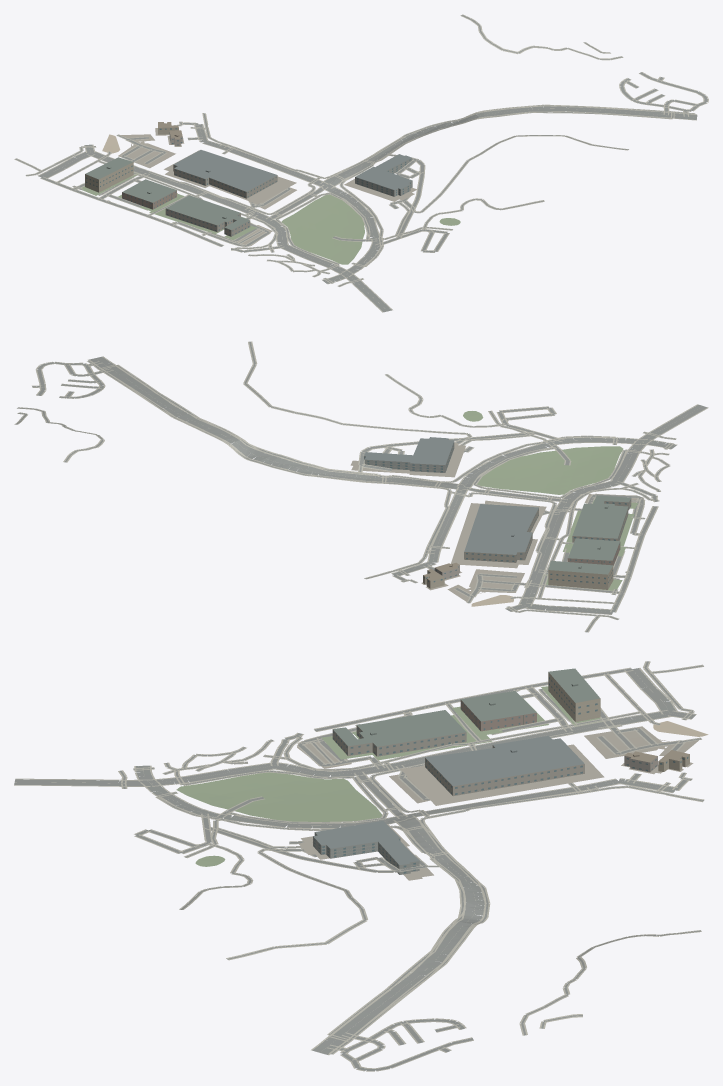
3 renders of one model, top to bottom at view 1: azimuth 30°, elevation 25°; view 2: azimuth 150°, elevation 25°; view 3: azimuth 270°, elevation 25°, orthographic. The views are drawn at different scales.
Parts seen in each view (by area): view 1: context-osm-roads, context-osm-sidewalks, context-osm-buildings, context-building-plinths; view 2: context-osm-roads, context-osm-sidewalks, context-osm-buildings, context-building-plinths; view 3: context-osm-roads, context-osm-sidewalks, context-osm-buildings, context-building-plinths.
Boxes of the visible parts, <box> form: context-osm-roads: <box>15,15,707,312</box>; context-osm-sidewalks: <box>14,14,708,312</box>; context-osm-buildings: <box>85,122,412,236</box>; context-building-plinths: <box>81,128,460,264</box>; context-osm-roads: <box>16,341,707,632</box>; context-osm-sidewalks: <box>14,341,708,632</box>; context-osm-buildings: <box>364,437,631,589</box>; context-building-plinths: <box>350,411,643,606</box>; context-osm-roads: <box>14,661,703,1070</box>; context-osm-sidewalks: <box>14,661,704,1071</box>; context-osm-buildings: <box>313,668,689,874</box>; context-building-plinths: <box>176,686,708,880</box>.
Size of the model in its own units: 858 by 68.35 by 602.
